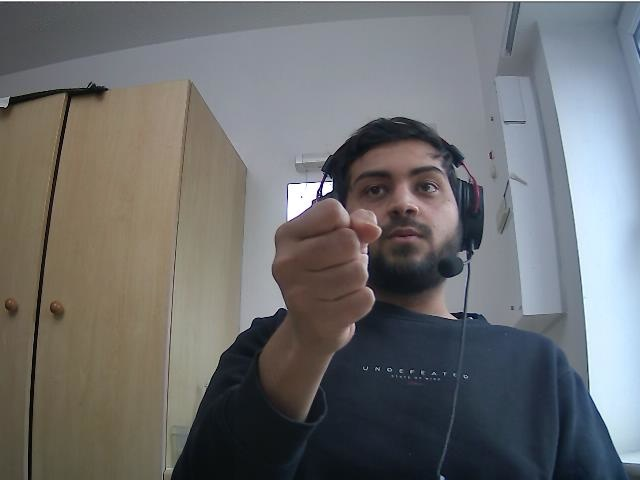hold: (269, 196, 385, 344)
